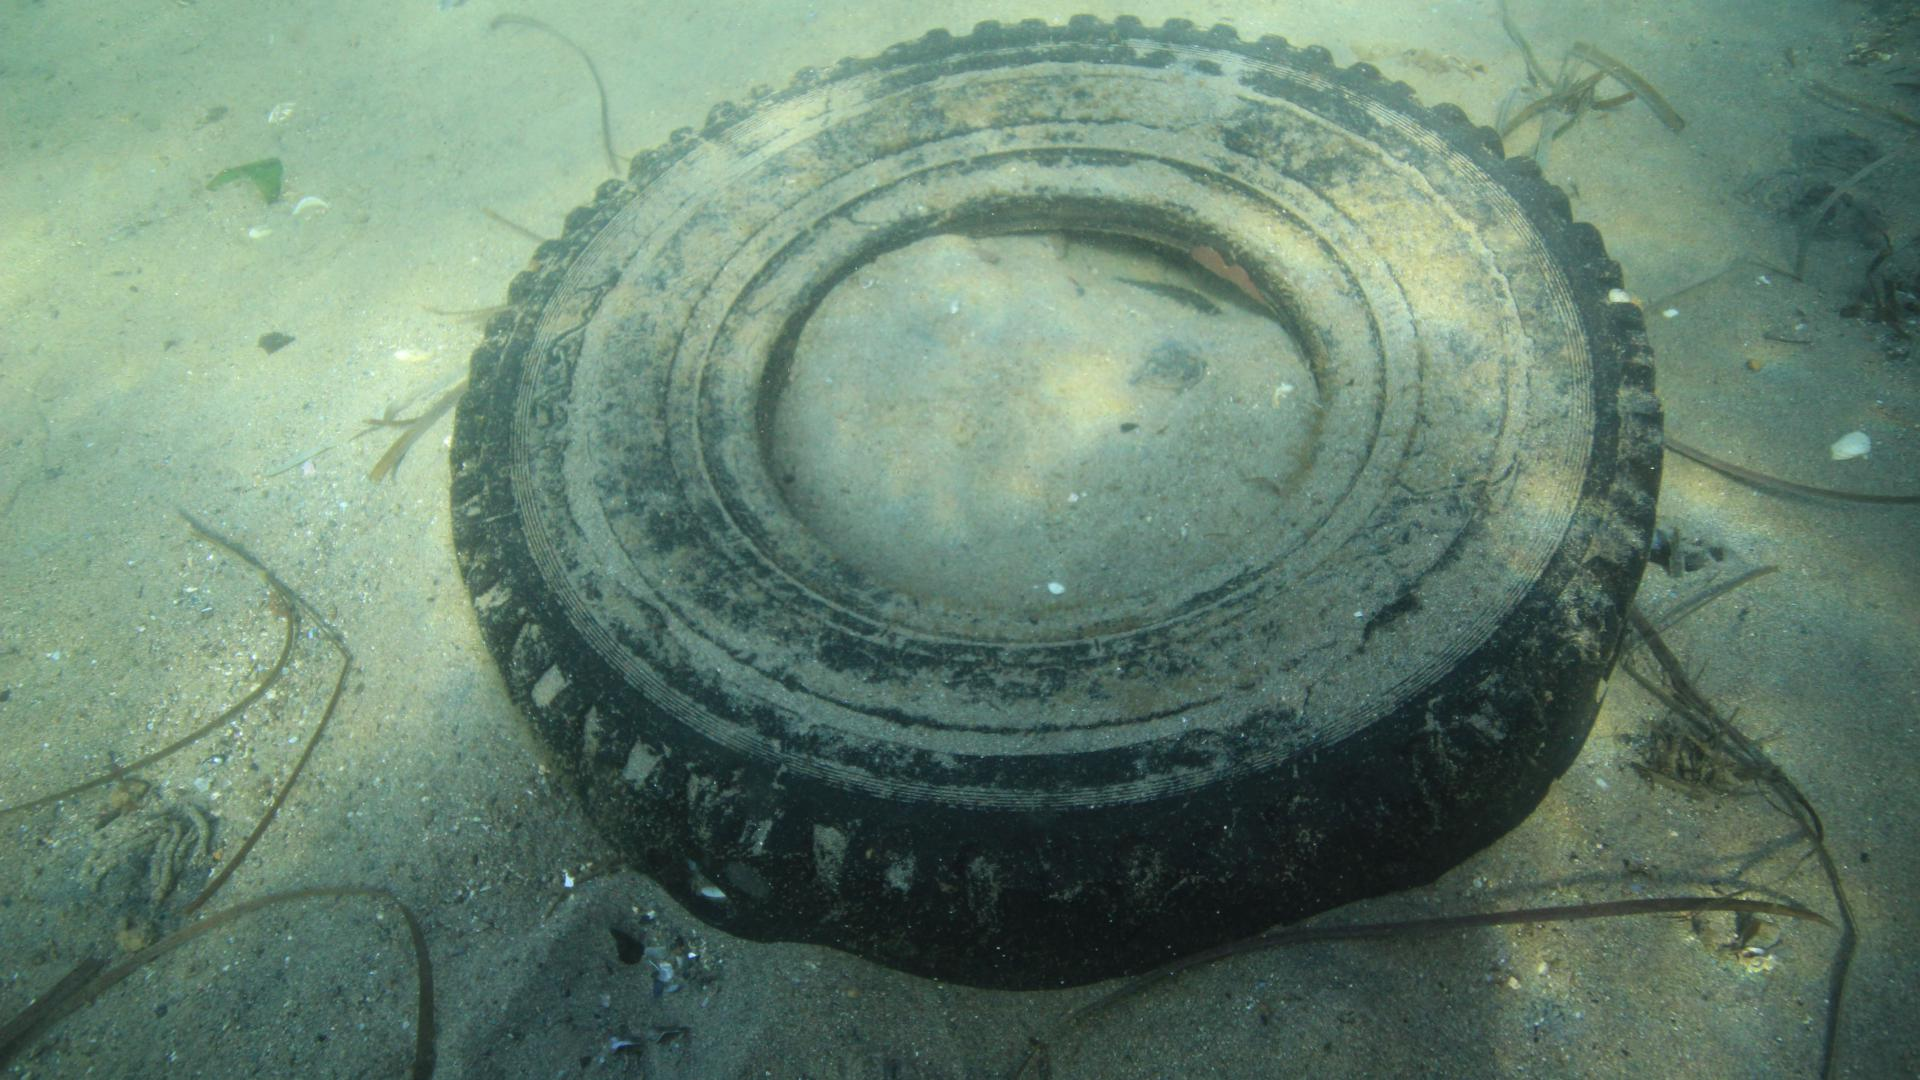tire: (446, 11, 1662, 992)
